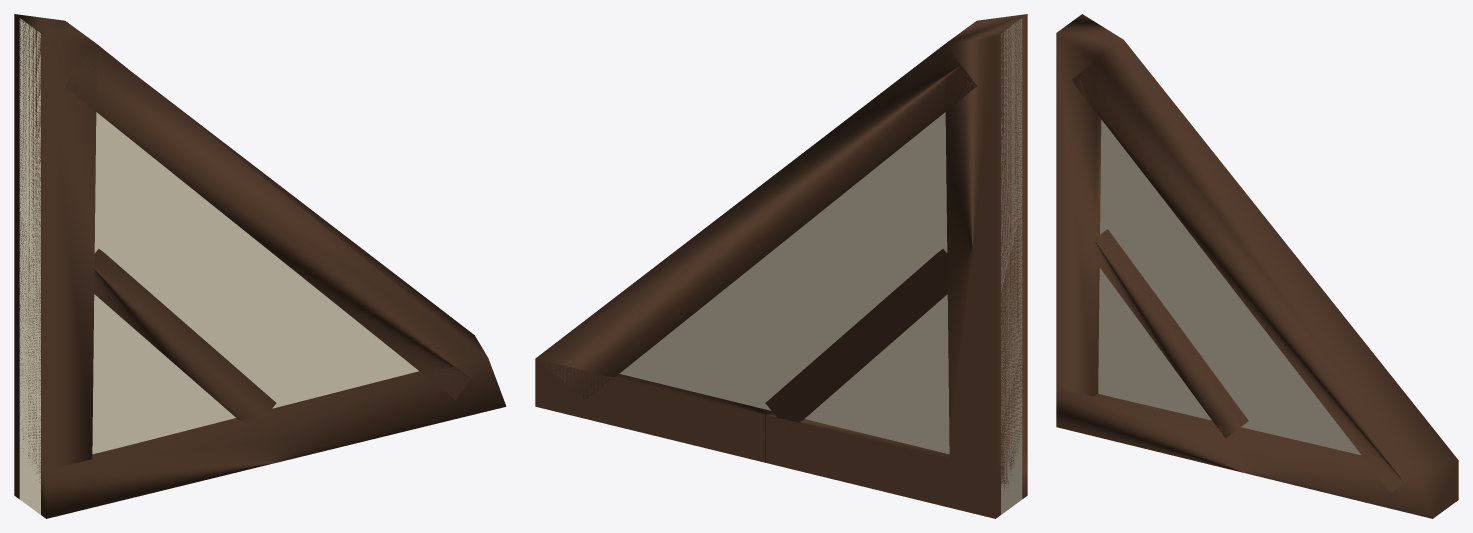
Rendered from gable_plaster_lod1.glb.
3 views of the same model, side by side, from view 1: azimuth 30°, elevation 25°; view 2: azimuth 150°, elevation 25°; view 3: azimuth 330°, elevation 25° (orthographic). The views are drawn at different scales.
Bounding box in the file's own units: 2 × 2 × 0.24.
